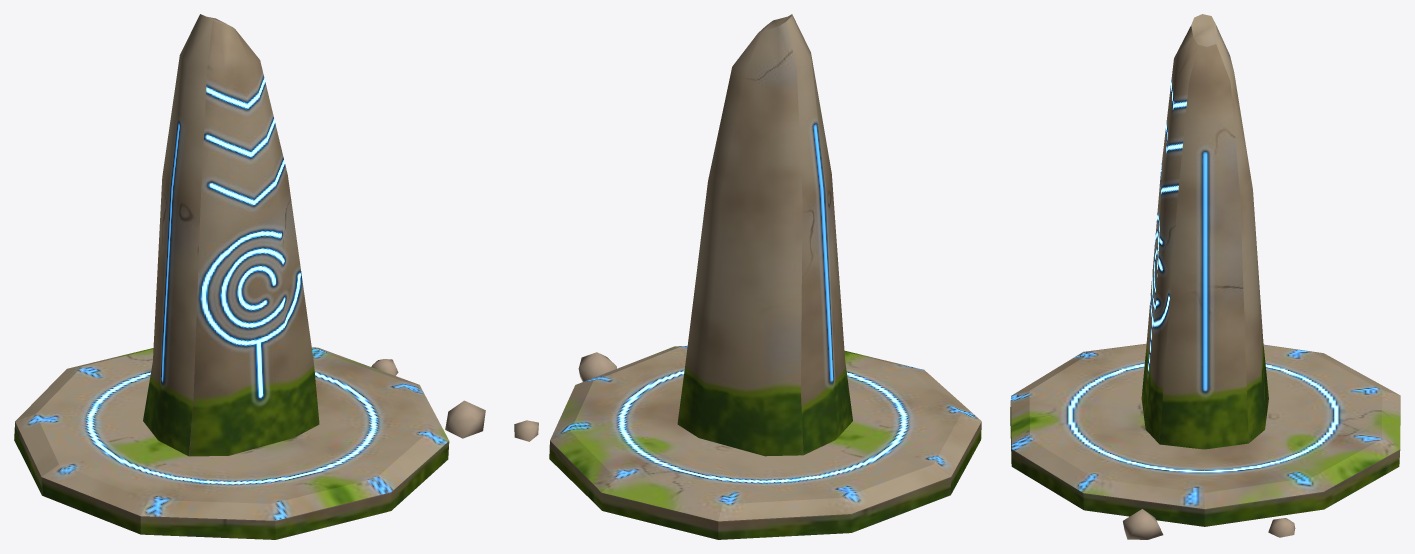
Rendered from road_stone_b_menhir_lod1.glb.
The picture shows the model from 3 angles, left to right: view 1: azimuth 30°, elevation 25°; view 2: azimuth 150°, elevation 25°; view 3: azimuth 270°, elevation 25°; orthographic projection. The views are drawn at different scales.
Visible parts, largest first — view 1: road_stone_b_menhir_lod1; view 2: road_stone_b_menhir_lod1; view 3: road_stone_b_menhir_lod1.
Part boxes in pixels (bbox=[...]): road_stone_b_menhir_lod1: bbox=[14, 14, 485, 539]; road_stone_b_menhir_lod1: bbox=[514, 14, 981, 539]; road_stone_b_menhir_lod1: bbox=[1010, 14, 1400, 539].
Size of the model in its own units: 2.05 by 2.14 by 1.81.
1 material, 1 textured.
